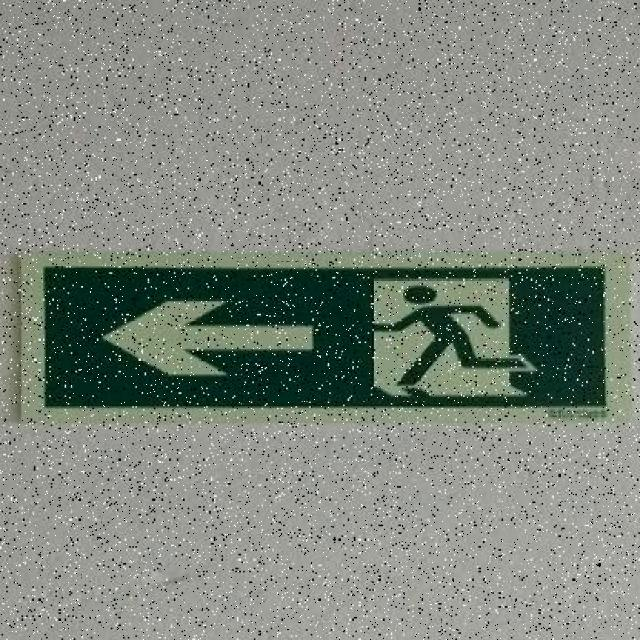emergency_exit: (20, 251, 611, 419)
